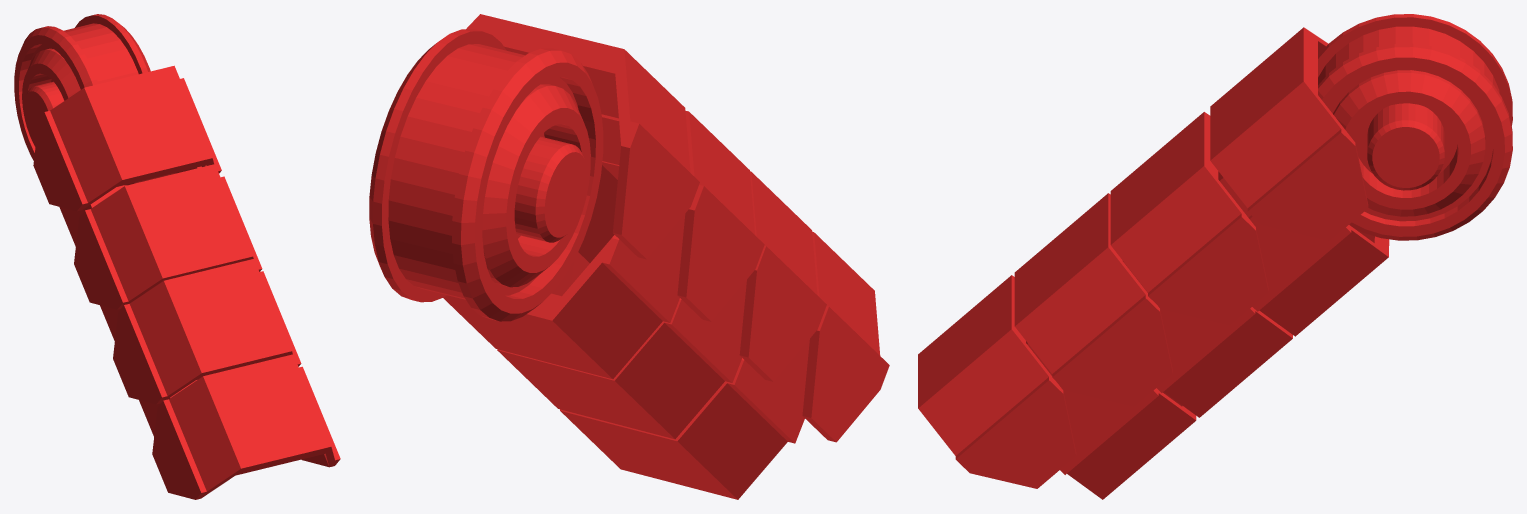
The model's file is femur.obj.
3 views of the same model, side by side, from view 1: azimuth 30°, elevation 25°; view 2: azimuth 150°, elevation 25°; view 3: azimuth 270°, elevation 25° (orthographic). The views are drawn at different scales.
Visible parts, largest first — view 1: gun_droneJoint7Joint1Null_Object1Cylinder5; view 2: gun_droneJoint7Joint1Null_Object1Cylinder5; view 3: gun_droneJoint7Joint1Null_Object1Cylinder5.
Boxes of the visible parts, <box> form: gun_droneJoint7Joint1Null_Object1Cylinder5: <box>14,14,340,499</box>; gun_droneJoint7Joint1Null_Object1Cylinder5: <box>369,14,889,499</box>; gun_droneJoint7Joint1Null_Object1Cylinder5: <box>918,14,1512,499</box>.
Bounding box in the file's own units: 0.4948 × 1.23 × 1.49.
